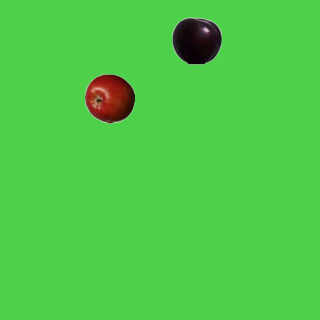Apple Braeburn: (84, 73, 134, 123)
Cherry Wax Black: (171, 15, 221, 65)
